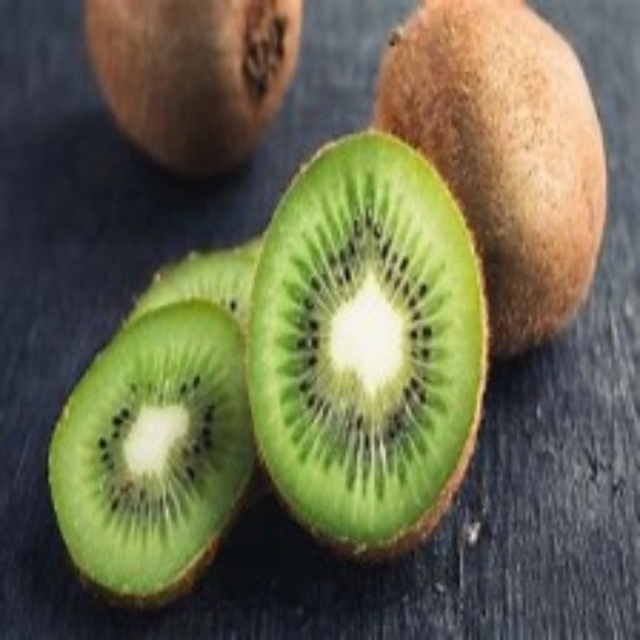kiwi: (224, 131, 519, 554), (365, 2, 608, 357), (50, 222, 270, 599), (82, 3, 303, 173)
